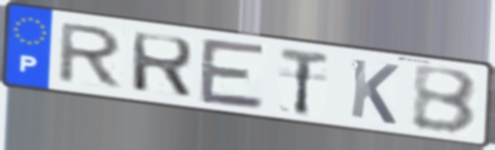B: (411, 64, 481, 137)
E: (197, 35, 269, 113)
K: (347, 56, 402, 128)
R: (53, 21, 127, 91), (128, 30, 197, 101)
T: (277, 45, 331, 117)
